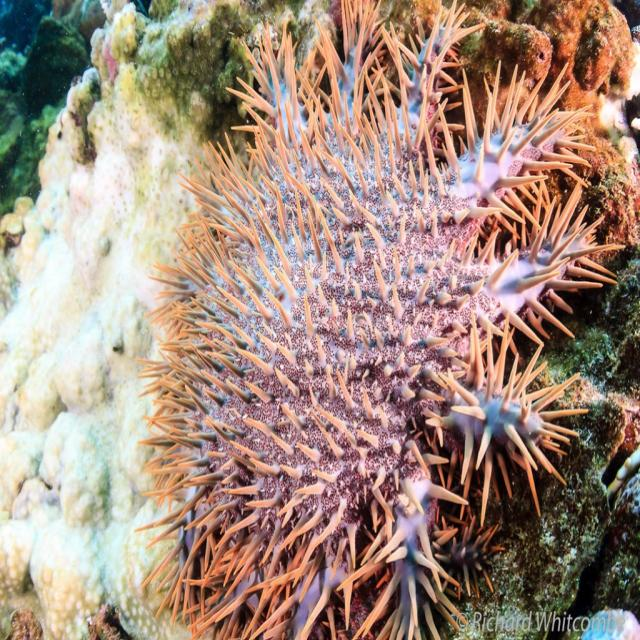Bleached: (1, 1, 199, 640)
Healthy: (144, 1, 622, 640)
